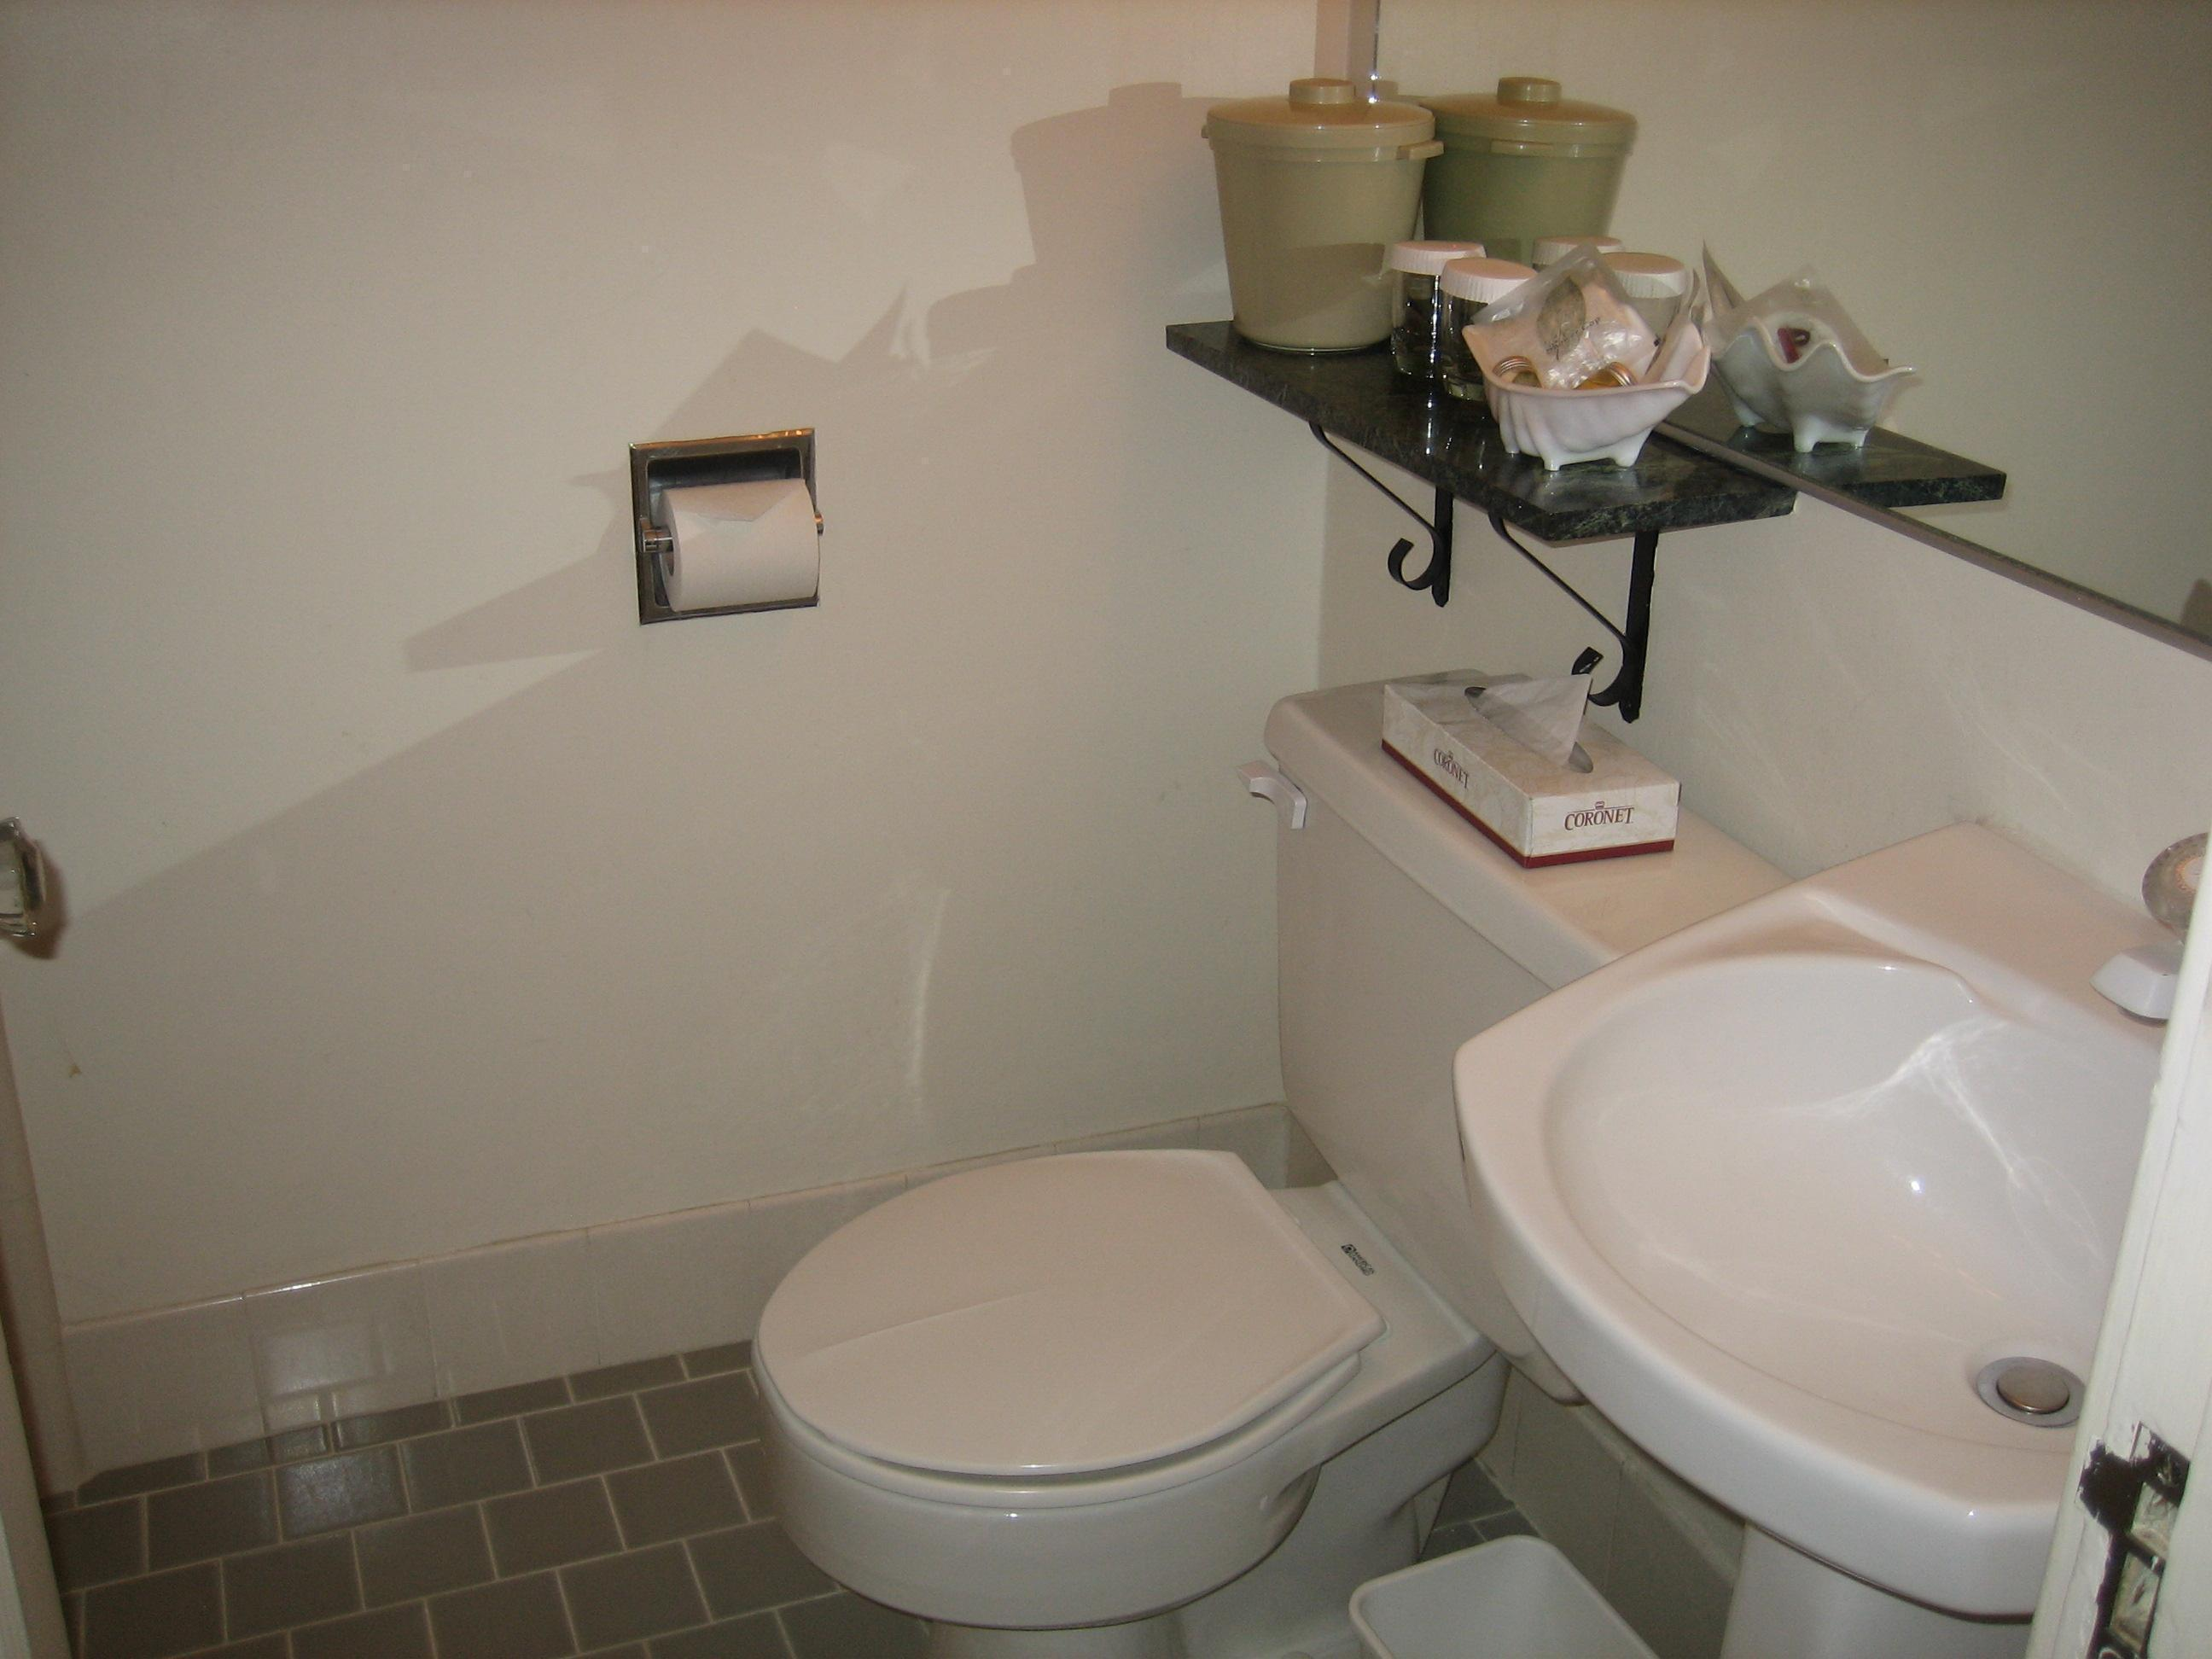Lavamanos: (1442, 800, 2153, 1622)
Sanitario: (674, 641, 1648, 1659)
